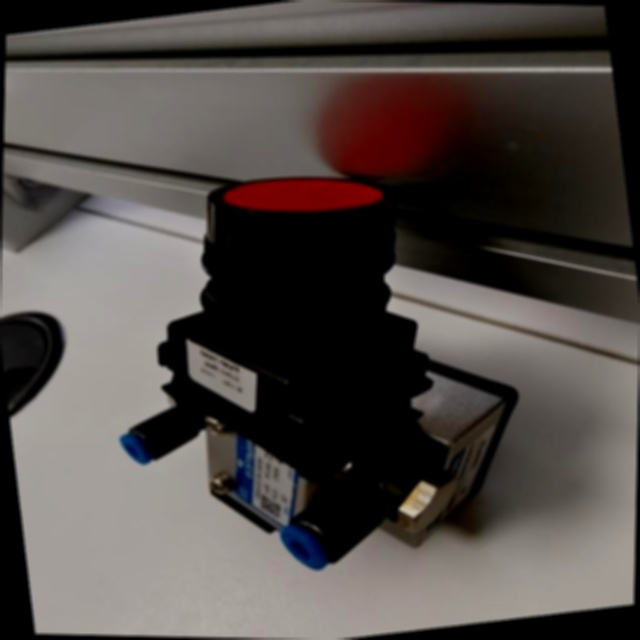push button: (82, 143, 544, 600)
